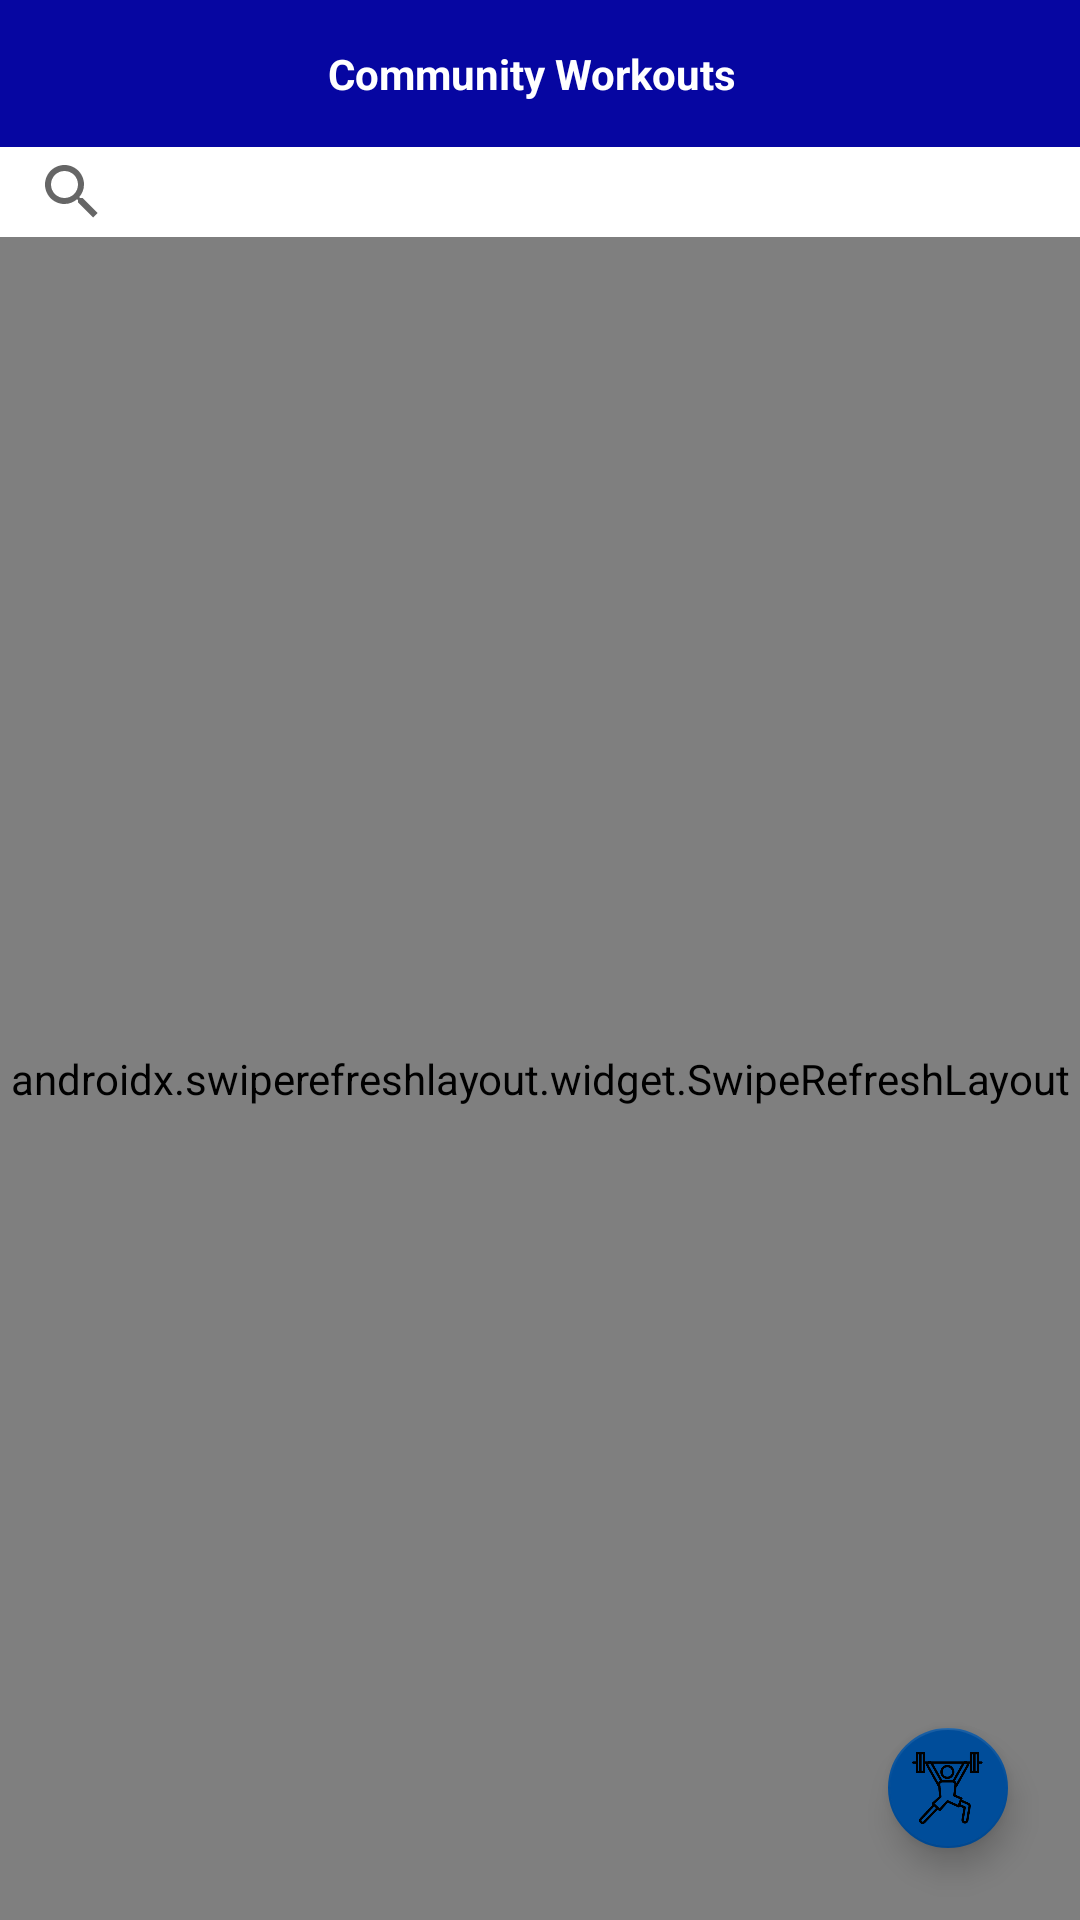

Icon bounding boxes for this 1080*1920 phone screenshot, format box(x1, y1, x2, y2):
weightlifter: box(888, 1728, 1008, 1848)
